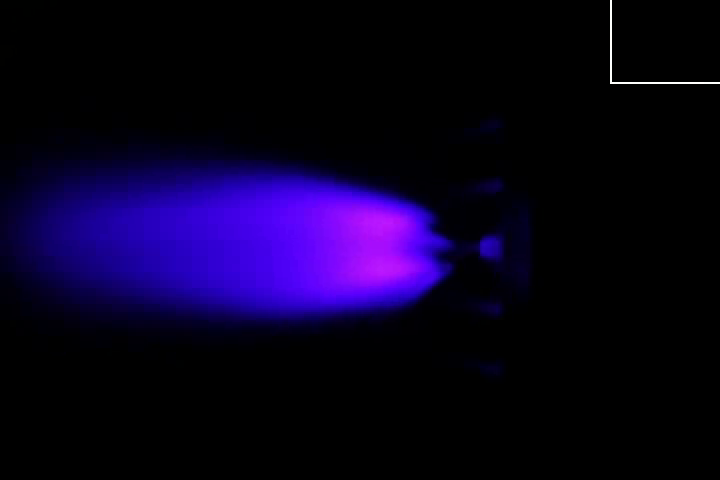burner cap: (477, 237, 507, 263)
unstable: (282, 176, 482, 302)
